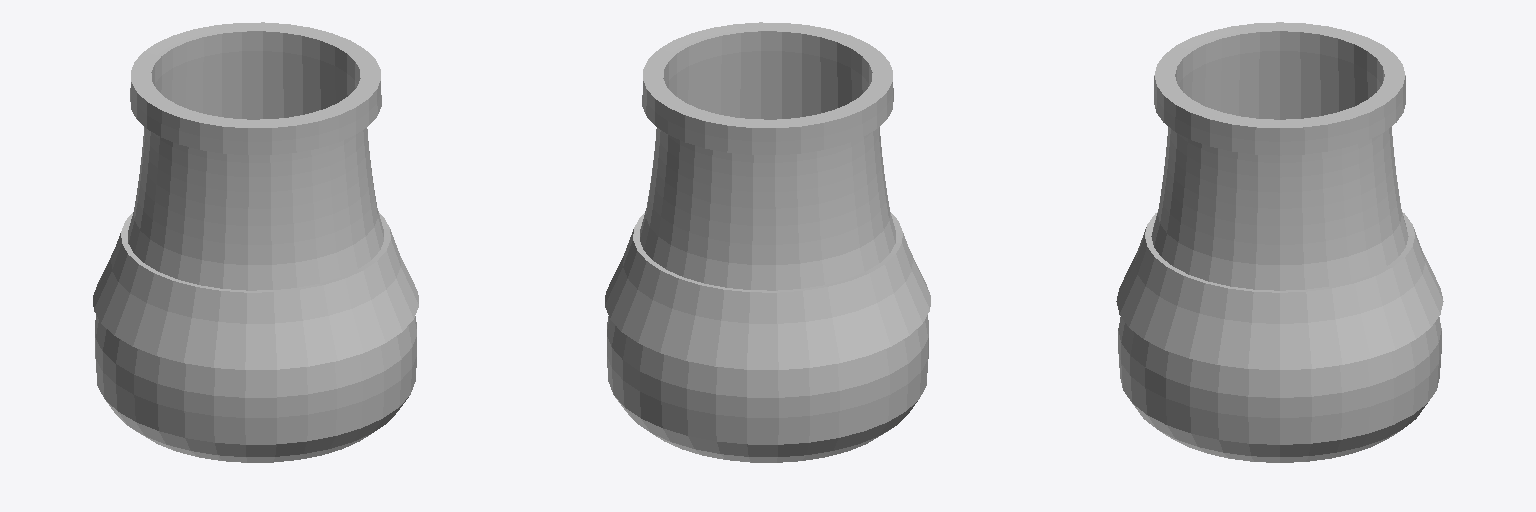
The model's file is cannon_9.obj.
3 renders of one model, left to right at view 1: azimuth 30°, elevation 25°; view 2: azimuth 150°, elevation 25°; view 3: azimuth 270°, elevation 25°, orthographic.
Parts seen in each view (by area): view 1: 炮管.003_柱体.009; view 2: 炮管.003_柱体.009; view 3: 炮管.003_柱体.009.
Part boxes in pixels (x1,y1,x2,y2): 炮管.003_柱体.009: (93,22,418,462); 炮管.003_柱体.009: (605,22,930,462); 炮管.003_柱体.009: (1116,22,1443,462).
Size of the model in its own units: 0.9382 by 1.14 by 0.9382.